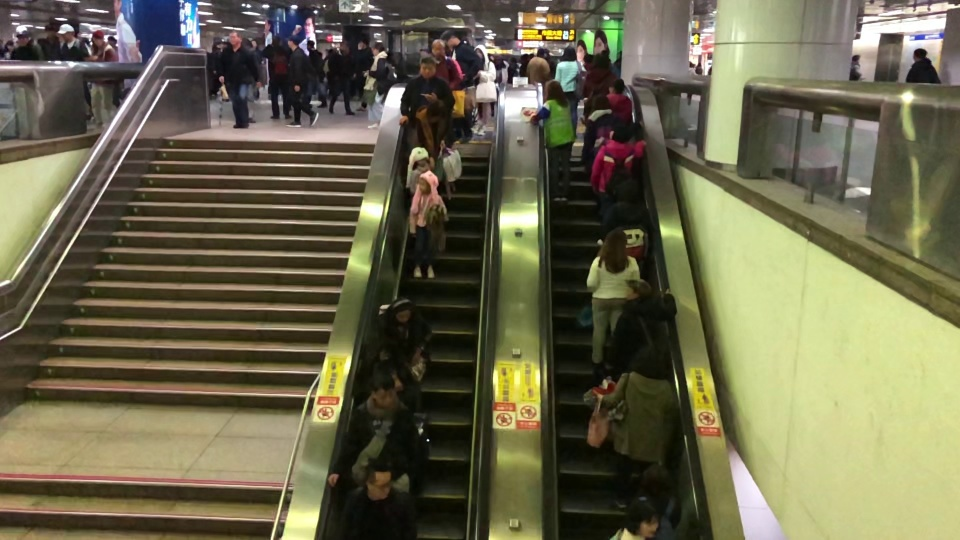person_head: (624, 496, 659, 538), (639, 461, 672, 504), (630, 344, 667, 382), (363, 457, 393, 501), (369, 373, 397, 407), (388, 296, 416, 324), (602, 227, 627, 258), (613, 178, 641, 203), (624, 277, 651, 301), (426, 98, 446, 124), (417, 171, 438, 194), (419, 54, 436, 79), (55, 23, 75, 44), (544, 78, 562, 101), (589, 93, 612, 111), (611, 124, 632, 143), (409, 146, 428, 167), (591, 52, 609, 70), (444, 30, 461, 48), (430, 38, 445, 58), (608, 77, 625, 94), (15, 29, 31, 47), (90, 29, 105, 47), (473, 44, 487, 62), (45, 22, 58, 41), (285, 34, 300, 50), (227, 31, 243, 46), (561, 46, 576, 61), (912, 48, 927, 62), (371, 41, 384, 55), (356, 38, 369, 50), (338, 41, 350, 54), (519, 53, 530, 65), (270, 36, 282, 47), (493, 57, 503, 69), (613, 54, 621, 68), (583, 52, 593, 63), (306, 39, 315, 51), (215, 41, 224, 53), (107, 35, 116, 46), (851, 54, 860, 64), (535, 48, 544, 58), (250, 38, 258, 49), (6, 39, 14, 50), (600, 49, 610, 57), (543, 48, 550, 58), (509, 55, 516, 63), (688, 61, 693, 67), (697, 62, 701, 68)
person_vbox: (600, 344, 680, 510), (325, 373, 429, 499), (362, 296, 433, 412), (585, 227, 641, 371), (603, 277, 677, 380), (338, 457, 419, 540), (523, 78, 577, 201), (626, 461, 702, 540), (597, 178, 656, 270), (407, 170, 448, 280), (444, 30, 483, 144), (588, 123, 646, 198), (217, 31, 261, 129), (398, 54, 455, 127), (55, 23, 94, 120), (82, 29, 118, 125), (579, 93, 622, 171), (284, 34, 319, 129), (406, 98, 450, 169), (554, 45, 582, 138), (261, 36, 292, 119), (362, 41, 391, 129), (581, 52, 620, 117), (605, 496, 659, 540), (472, 43, 497, 136), (327, 41, 356, 116), (430, 38, 463, 90), (352, 38, 373, 111), (306, 39, 327, 108), (604, 77, 633, 122), (905, 49, 942, 84), (405, 145, 431, 194), (9, 28, 45, 60), (489, 57, 507, 117), (36, 21, 61, 61), (525, 48, 550, 85), (210, 41, 224, 98), (686, 61, 697, 105), (543, 48, 557, 79), (514, 54, 530, 77), (506, 55, 519, 83), (250, 37, 262, 64), (849, 54, 860, 80), (610, 54, 621, 78), (3, 39, 14, 60), (583, 53, 593, 71), (695, 62, 702, 74)
